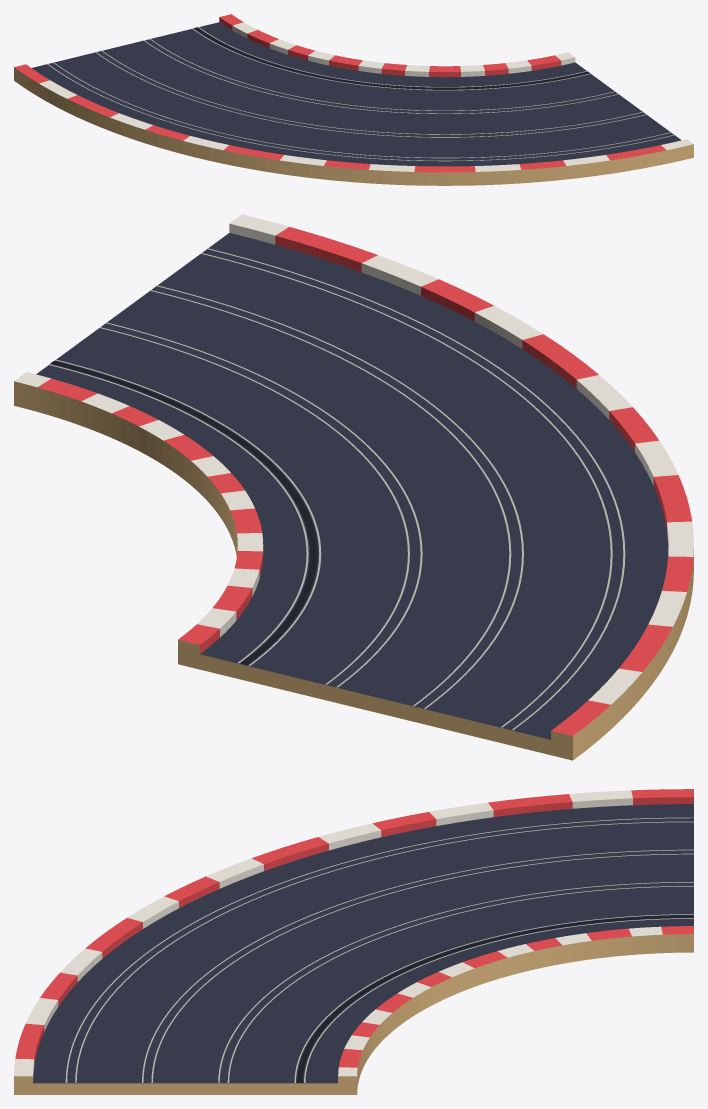
Rendered from Track_4L_Curve90_L.fbx.
3 views of the same model, one above another, from view 1: azimuth 30°, elevation 25°; view 2: azimuth 150°, elevation 25°; view 3: azimuth 270°, elevation 25° (orthographic). The views are drawn at different scales.
Parts seen in each view (by area): view 1: Track_4L_Curve90_L; view 2: Track_4L_Curve90_L; view 3: Track_4L_Curve90_L.
Boxes of the visible parts, box(x1,y1,x2,y2) form: Track_4L_Curve90_L: box(14, 14, 693, 185); Track_4L_Curve90_L: box(14, 214, 693, 760); Track_4L_Curve90_L: box(14, 789, 693, 1094).
Bounding box in the file's own units: 10.7 × 0.32 × 10.7.
